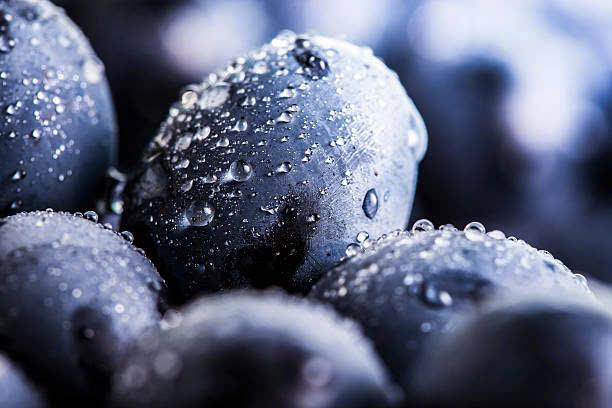grape: (134, 21, 417, 278), (115, 283, 409, 408), (5, 210, 156, 385), (2, 4, 127, 214), (328, 225, 612, 315)
